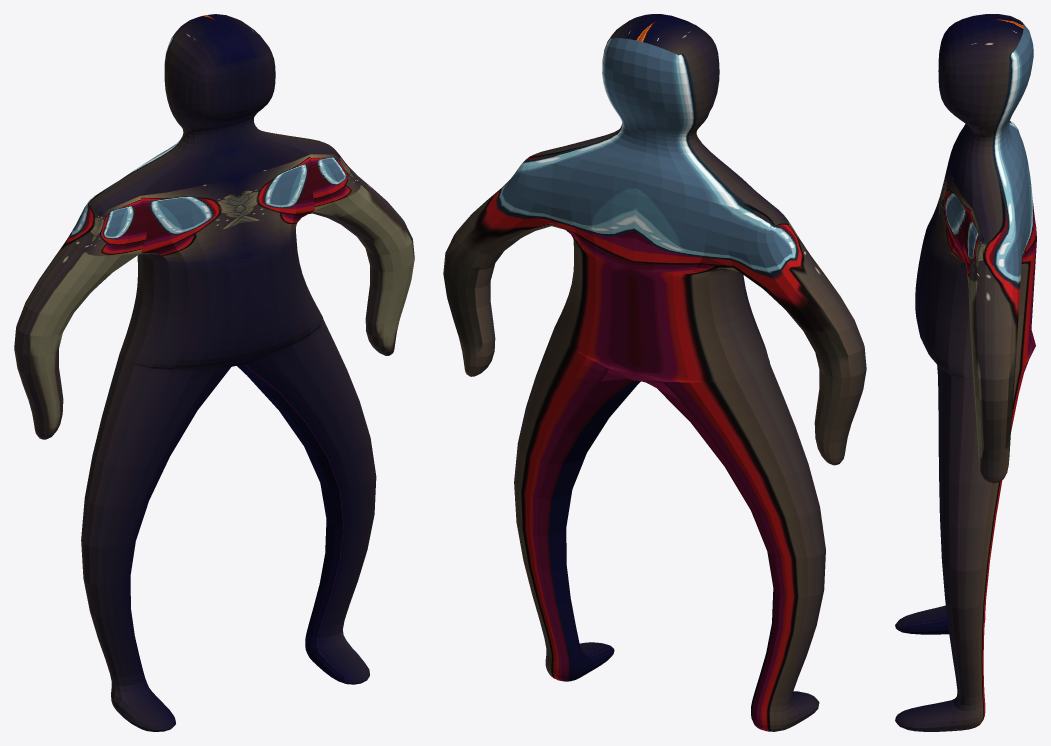
File: persono.obj
The picture shows the model from 3 angles, left to right: view 1: azimuth 30°, elevation 25°; view 2: azimuth 150°, elevation 25°; view 3: azimuth 270°, elevation 25°; orthographic projection. The views are drawn at different scales.
Visible parts, largest first — view 1: Cube; view 2: Cube; view 3: Cube.
Part boxes in pixels (box(x1,y1,x2,y2)): Cube: box(14, 14, 414, 731); Cube: box(443, 14, 866, 731); Cube: box(895, 14, 1036, 731).
Bounding box in the file's own units: 184 × 291 × 56.91.
Materials: 1 (1 with a texture image).
